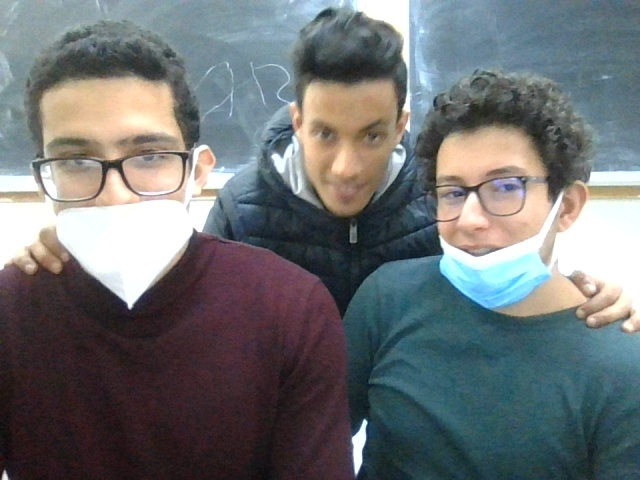mask_weared_incorrect: (16, 38, 203, 293), (423, 87, 585, 292)
without_mask: (286, 13, 412, 234)
